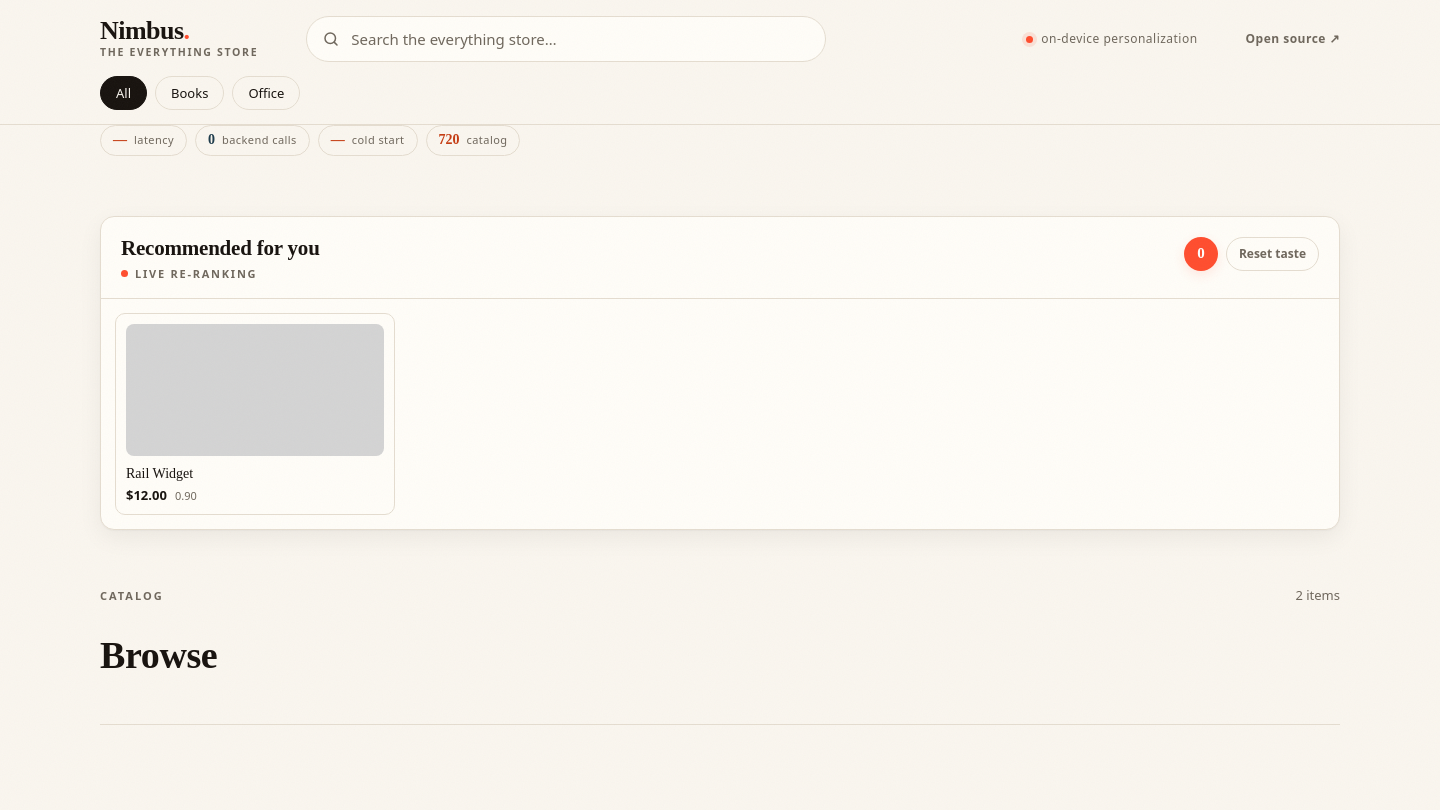
Scenario: Storefront category + search › runs a hybrid search as the query settles
The image size is (1440, 810).
In the search field named "Search products": (566, 39) [306,16,826,62], type "lamp"
Wait 300 ms
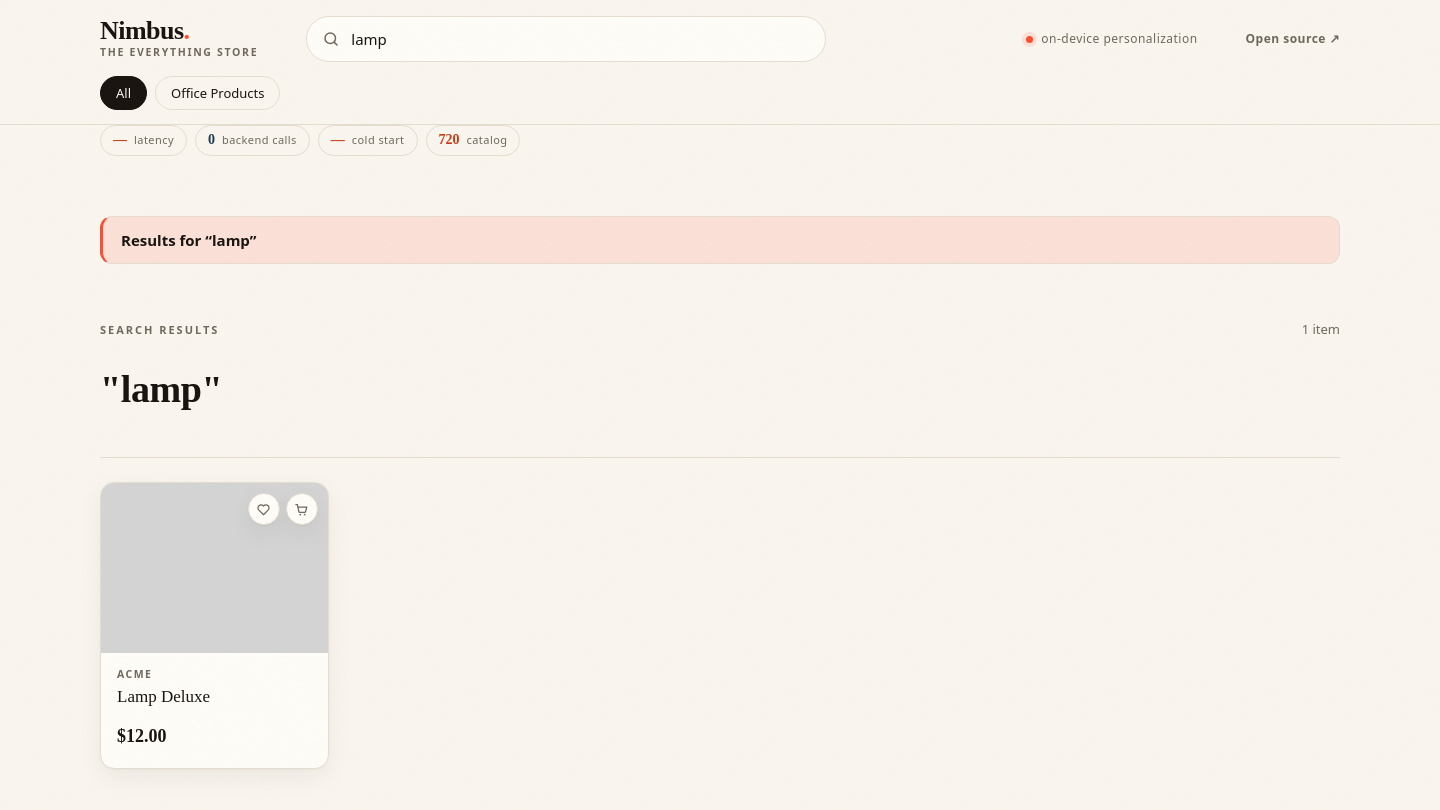
Expected: the text "Lamp Deluxe" is shown, [117,687,210,706]
